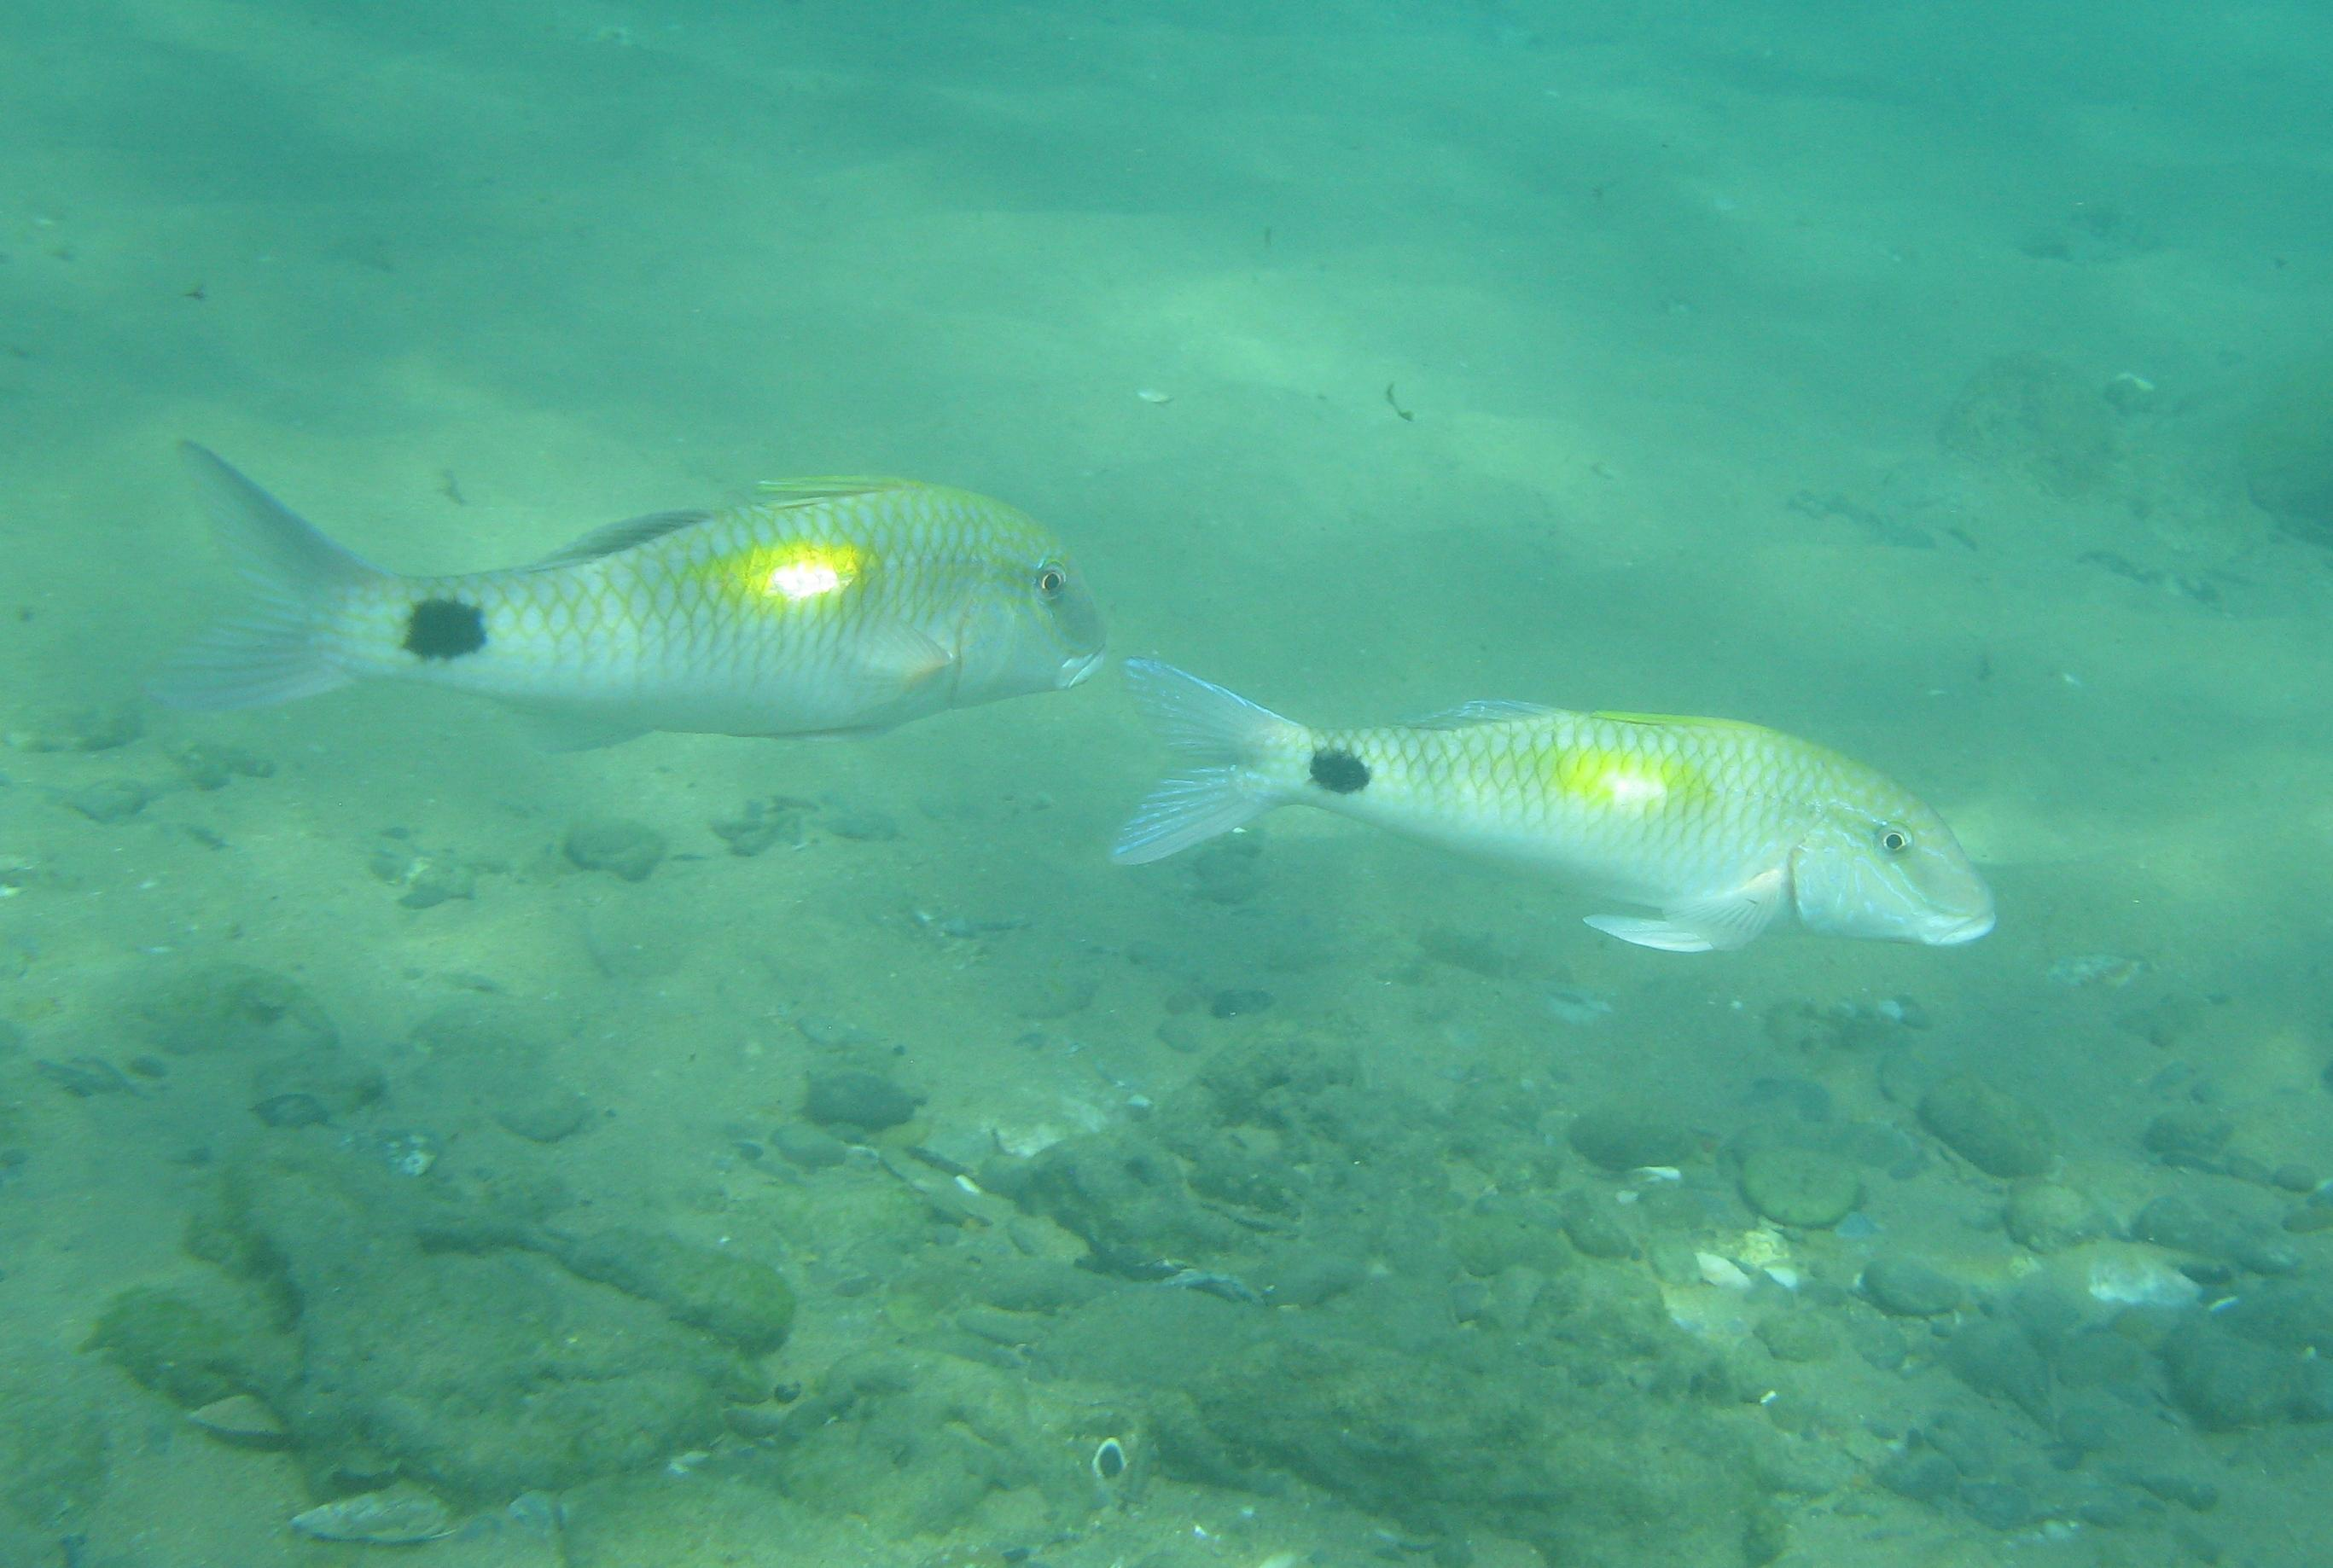Fish: (1131, 607, 2042, 1090), (140, 357, 1127, 768)
